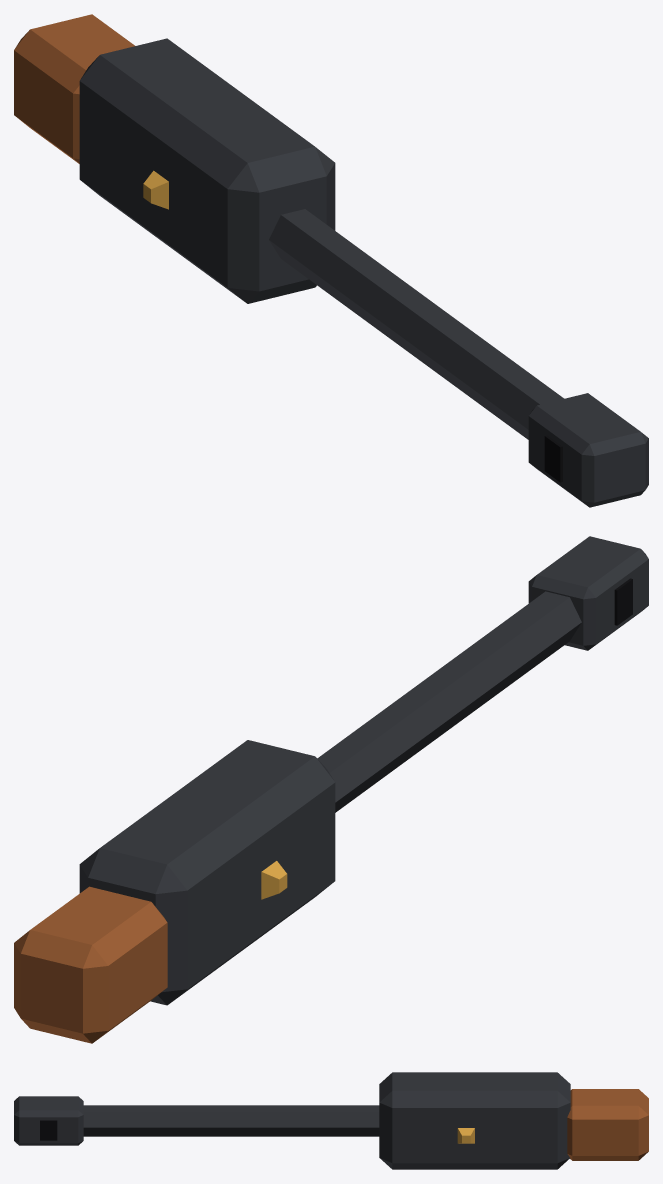
File: SniperBarrel.obj
The picture shows the model from 3 angles, top to bottom: view 1: azimuth 30°, elevation 25°; view 2: azimuth 150°, elevation 25°; view 3: azimuth 270°, elevation 25°; orthographic projection. The views are drawn at different scales.
Visible parts, largest first — view 1: SniperBarrel; view 2: SniperBarrel; view 3: SniperBarrel.
Part boxes in pixels (x1=…): SniperBarrel: x1=14, y1=14, x2=648, y2=507; SniperBarrel: x1=14, y1=536, x2=648, y2=1043; SniperBarrel: x1=14, y1=1072, x2=648, y2=1169.
Size of the model in its own units: 0.1212 by 0.12 by 0.876.
